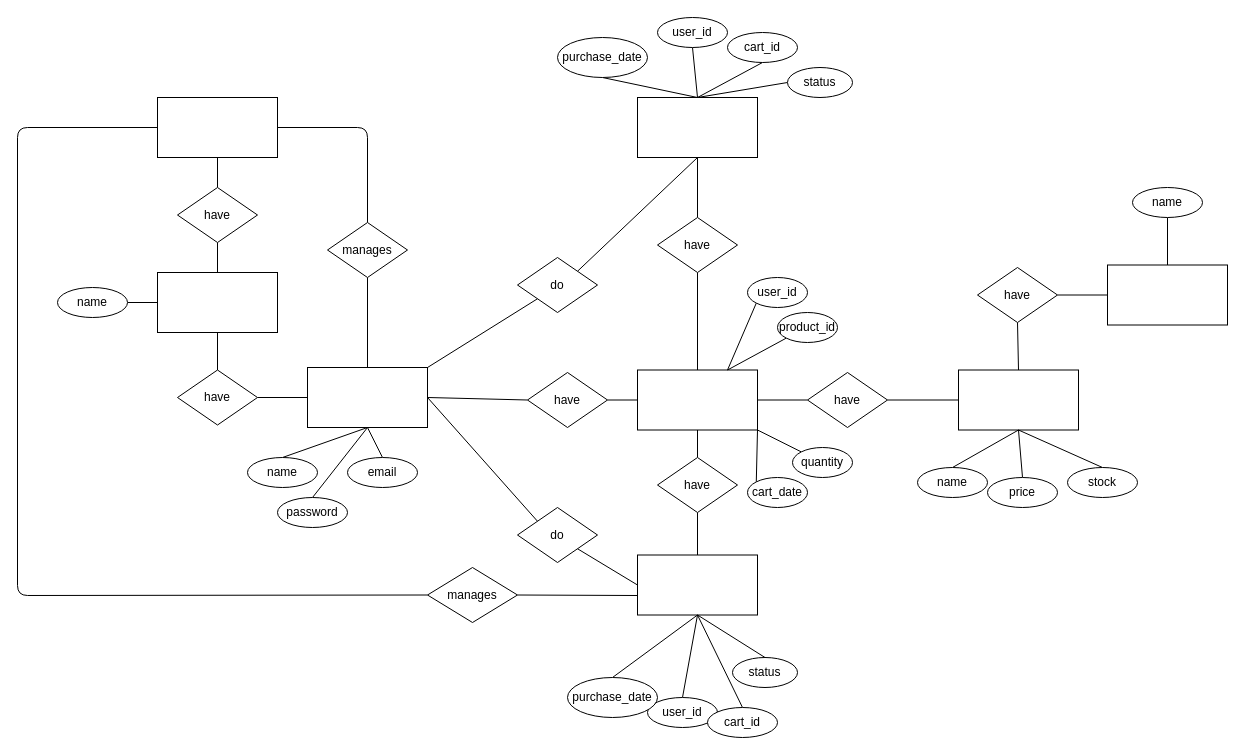
Some shapes in this 1245 by 755 pixel diagram are drawn without their labels. Each missing label, with the centre of its shape:
"Admin" belongs at pixel 217 127.
"Cart" belongs at pixel 697 399.
"Category" belongs at pixel 1167 294.
"Product" belongs at pixel 1018 399.
"Purchase" belongs at pixel 697 127.
"Reservation" belongs at pixel 697 584.
"Role" belongs at pixel 217 302.
"User" belongs at pixel 367 397.
